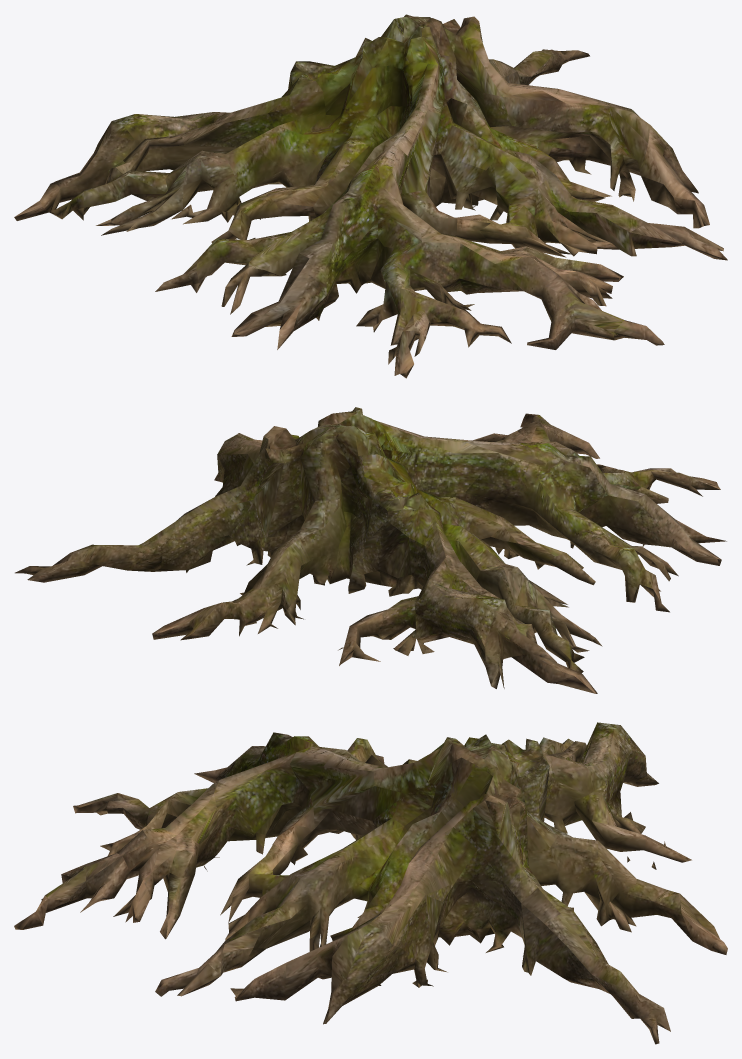
Rendered from VEG_RaizTropical_01_LOD1.fbx.
The picture shows the model from 3 angles, top to bottom: view 1: azimuth 30°, elevation 25°; view 2: azimuth 150°, elevation 25°; view 3: azimuth 270°, elevation 25°; orthographic projection. The views are drawn at different scales.
Visible parts, largest first — view 1: VEG_RaizTropical_01_Mesh000; view 2: VEG_RaizTropical_01_Mesh000; view 3: VEG_RaizTropical_01_Mesh000.
Part boxes in pixels (x1,y1,x2,y2): VEG_RaizTropical_01_Mesh000: [14, 14, 727, 378]; VEG_RaizTropical_01_Mesh000: [15, 407, 726, 693]; VEG_RaizTropical_01_Mesh000: [14, 722, 727, 1044].
Size of the model in its own units: 3 by 0.8311 by 3.01.
